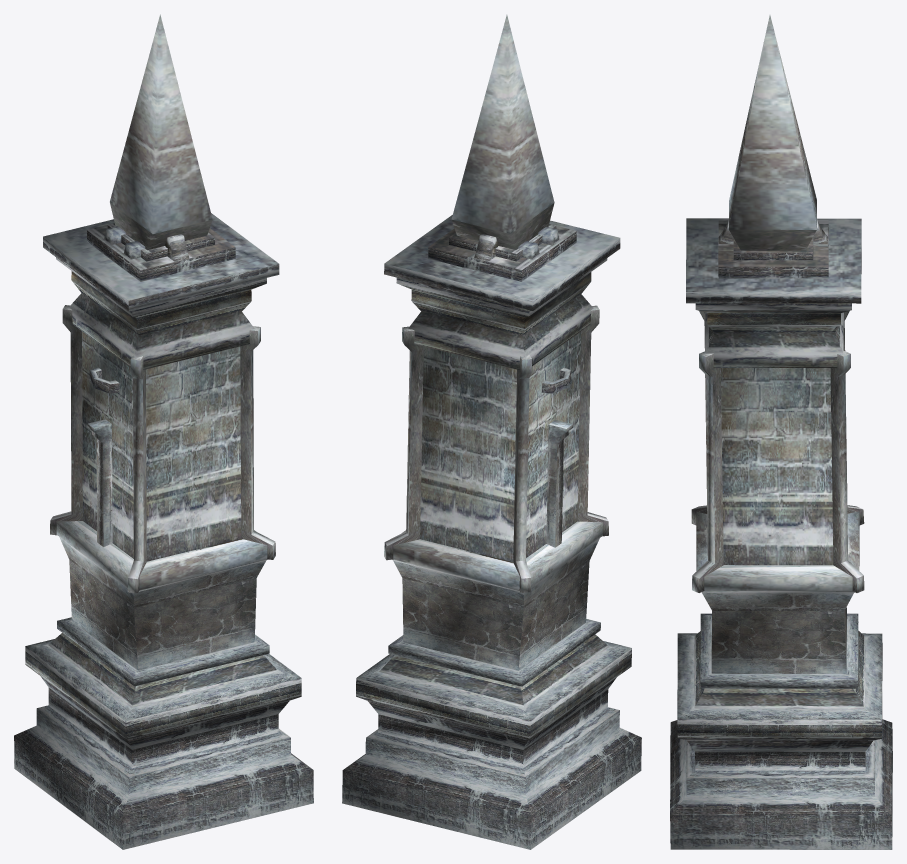
The model's file is S_Build_Snowland170.FBX.
The picture shows the model from 3 angles, left to right: view 1: azimuth 30°, elevation 25°; view 2: azimuth 150°, elevation 25°; view 3: azimuth 270°, elevation 25°; orthographic projection.
Visible parts, largest first — view 1: S_Build_Snowland170; view 2: S_Build_Snowland170; view 3: S_Build_Snowland170.
Part boxes in pixels (x1,y1,x2,y2): S_Build_Snowland170: [14, 14, 313, 849]; S_Build_Snowland170: [342, 14, 641, 849]; S_Build_Snowland170: [670, 15, 892, 849].
Size of the model in its own units: 179 by 178 by 692.
